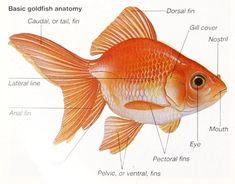goldfish: (64, 31, 231, 142)
